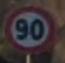limite 90: (4, 6, 56, 55)
